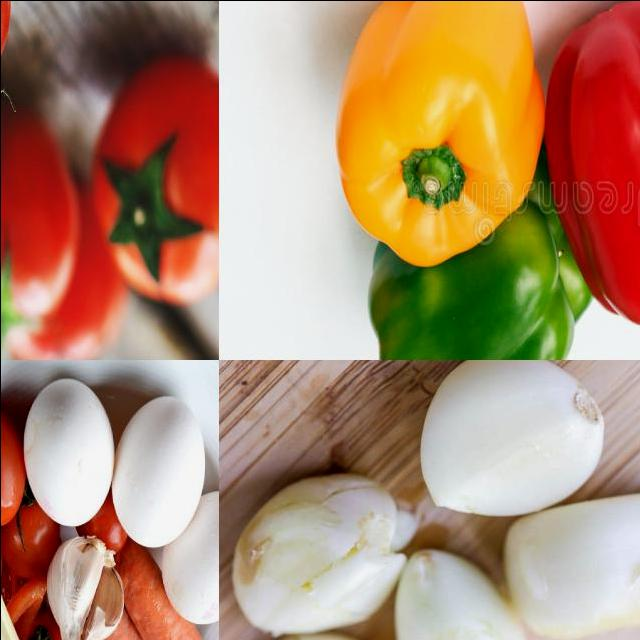bell_pepper: (335, 1, 545, 265), (369, 177, 595, 360), (544, 1, 640, 322)
egg: (134, 387, 204, 550), (30, 374, 105, 520), (170, 495, 219, 624)
garlic: (415, 360, 607, 521), (225, 470, 402, 640), (499, 486, 640, 640), (395, 547, 534, 640), (49, 541, 113, 640)
tomato: (92, 58, 219, 296), (1, 109, 78, 339), (1, 413, 19, 529)
